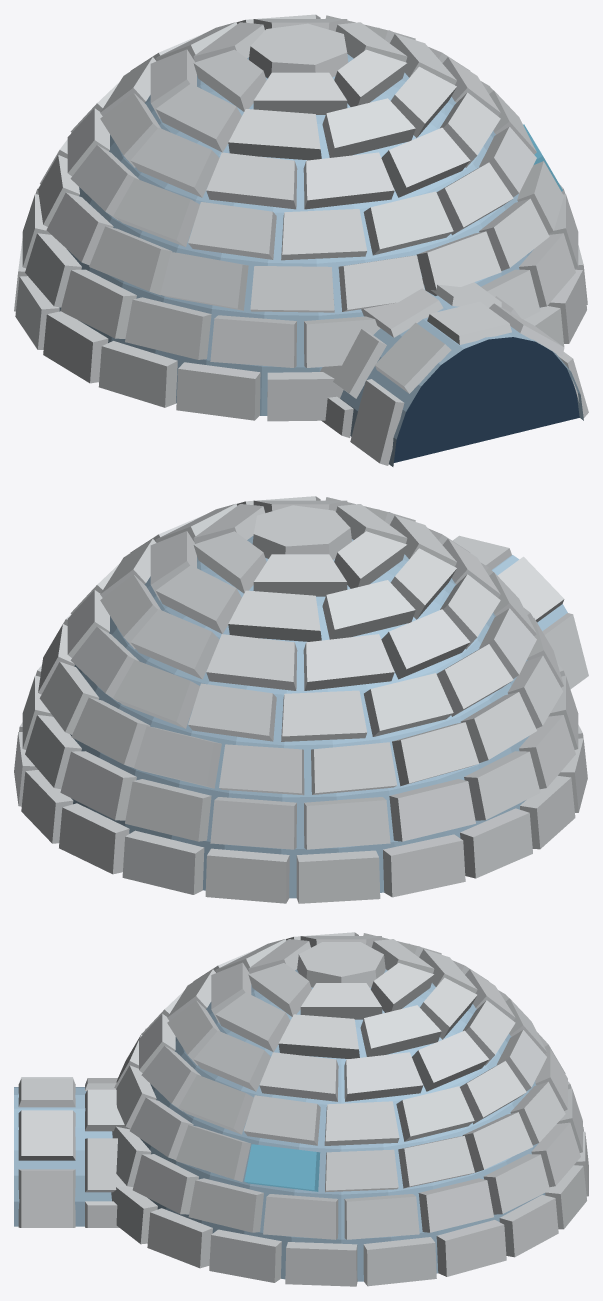
The model's file is igloo-large.glb.
The picture shows the model from 3 angles, top to bottom: view 1: azimuth 30°, elevation 25°; view 2: azimuth 150°, elevation 25°; view 3: azimuth 270°, elevation 25°; orthographic projection. The views are drawn at different scales.
Parts seen in each view (by area): view 1: igloo-large; view 2: igloo-large; view 3: igloo-large.
Part boxes in pixels (x1,y1,x2,y2): igloo-large: (14,14,588,466); igloo-large: (14,496,588,903); igloo-large: (14,932,588,1286).
Bounding box in the file's own units: 0.8008 × 0.403 × 0.922.
